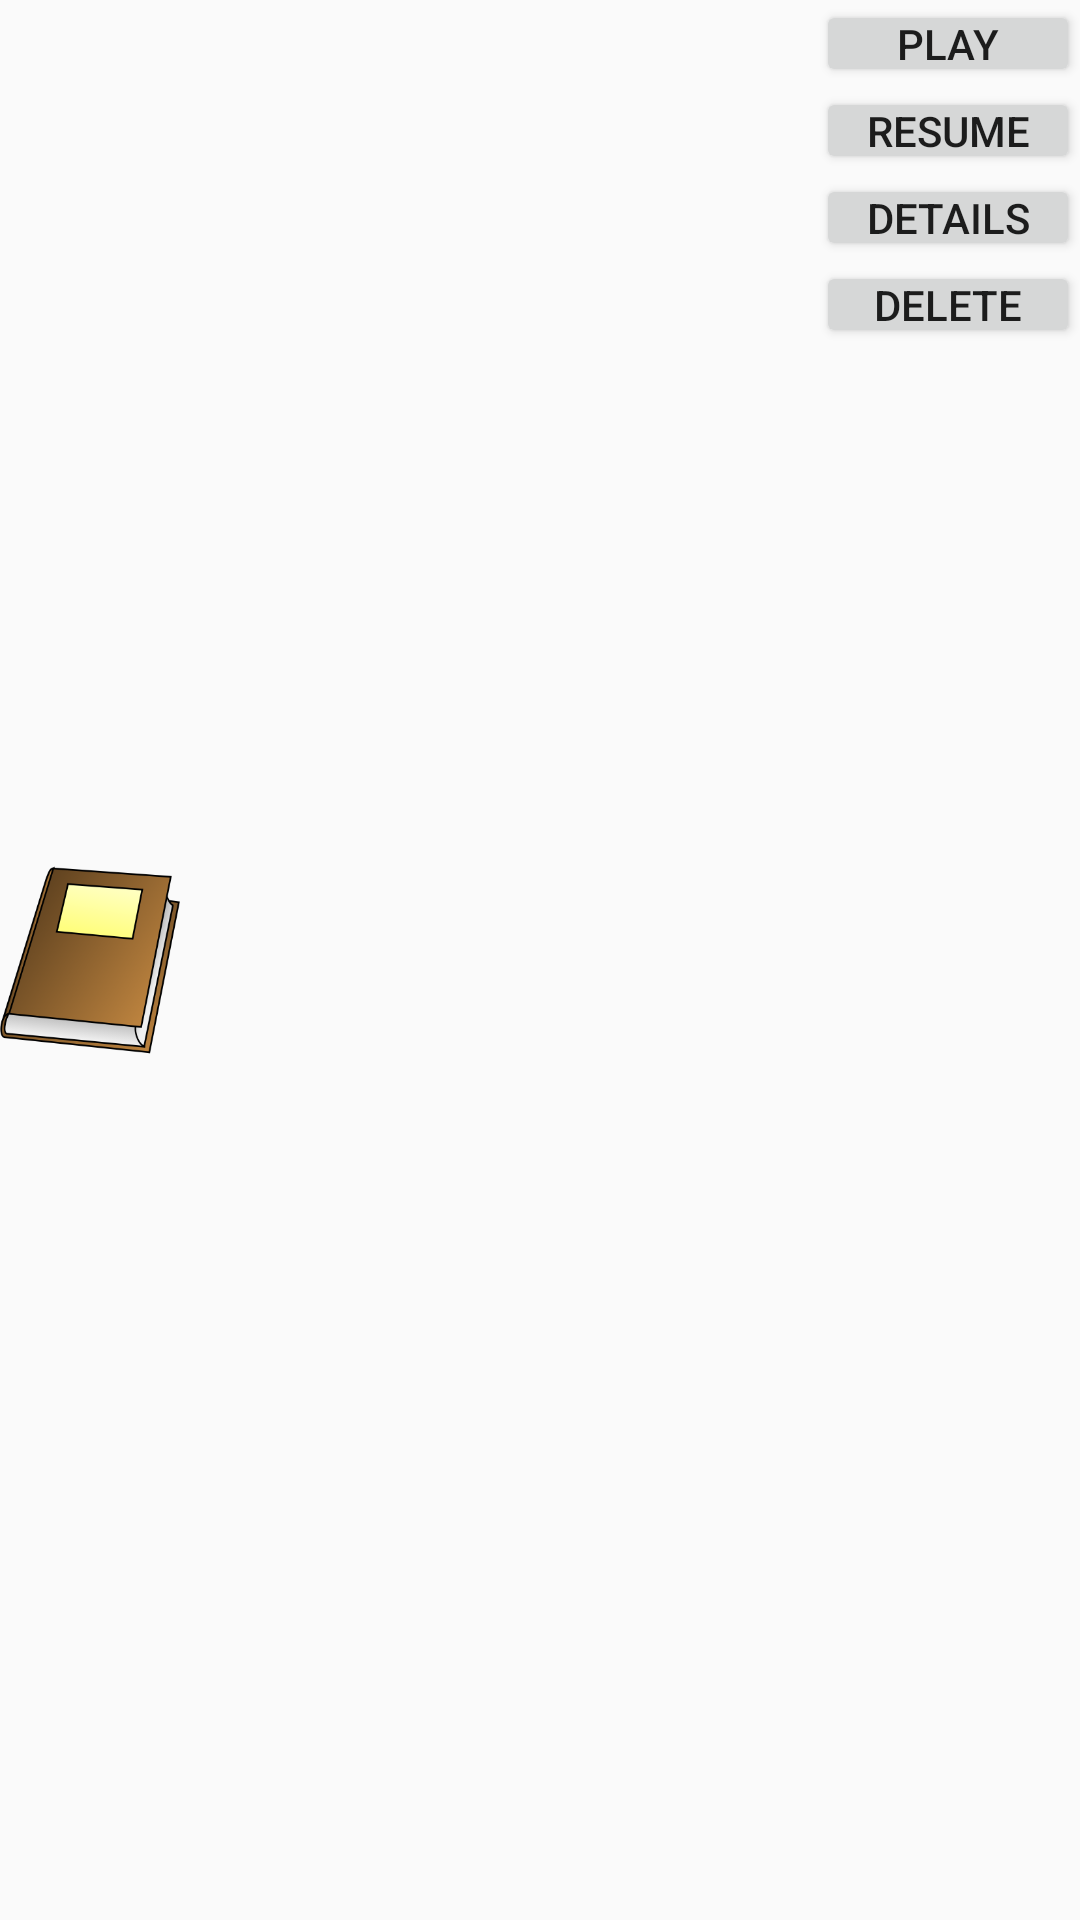

Icon click points for this 1080*1920 phone screenshot, format (x,y):
imgbook: (90,960)
